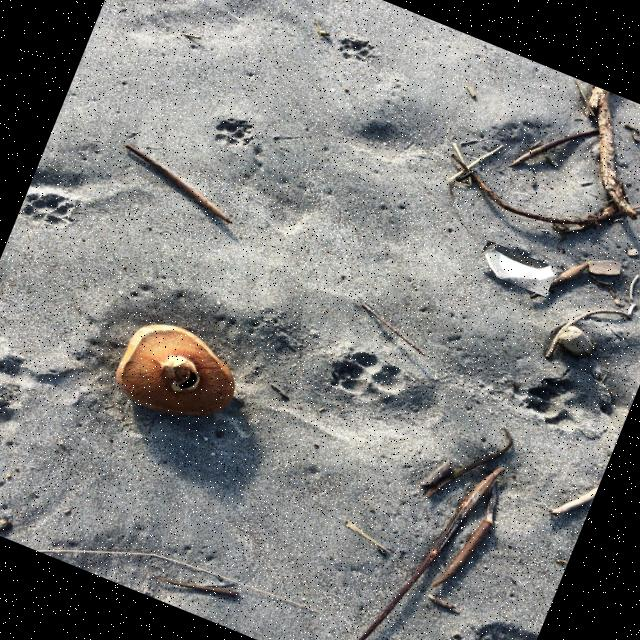Other plastic bottle: (483, 248, 553, 282), (537, 230, 549, 232)
